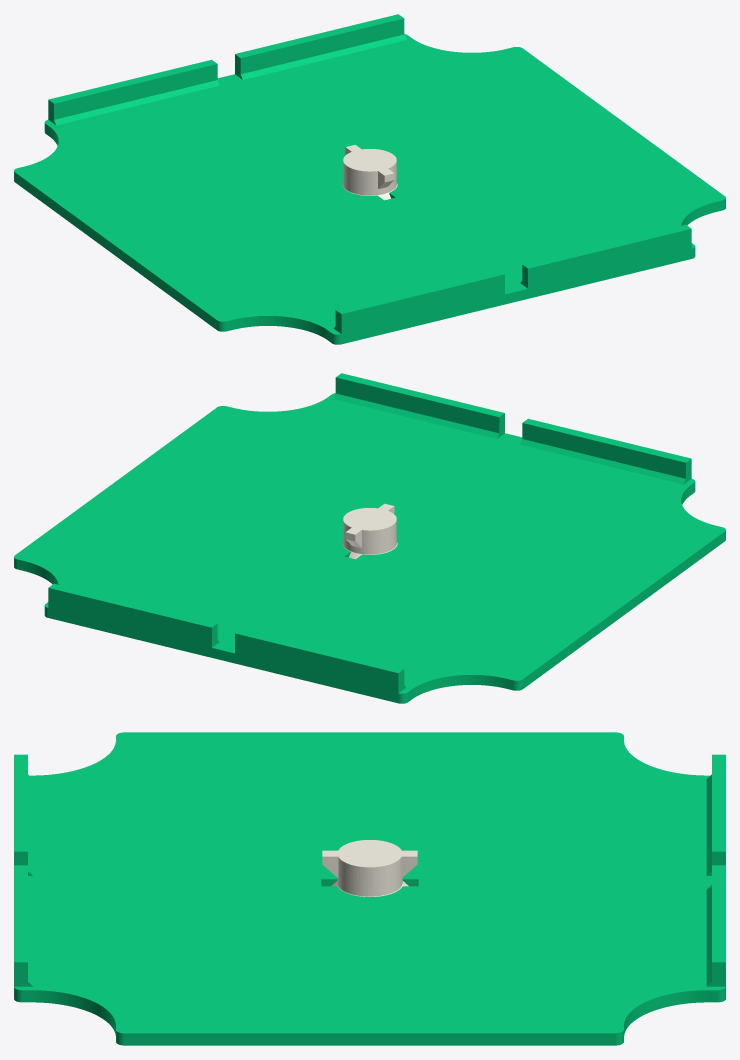
The model's file is cover.glb.
The picture shows the model from 3 angles, top to bottom: view 1: azimuth 30°, elevation 25°; view 2: azimuth 150°, elevation 25°; view 3: azimuth 270°, elevation 25°; orthographic projection. The views are drawn at different scales.
Visible parts, largest first — view 1: contratapa, tornillo_contratapa; view 2: contratapa, tornillo_contratapa; view 3: contratapa, tornillo_contratapa.
Boxes of the visible parts, <box> form: contratapa: <box>14,14,725,344</box>; tornillo_contratapa: <box>342,144,397,200</box>; contratapa: <box>14,373,725,703</box>; tornillo_contratapa: <box>342,503,397,559</box>; contratapa: <box>14,732,725,1045</box>; tornillo_contratapa: <box>322,840,417,896</box>.
Size of the model in its own units: 0.1322 by 0.0105 by 0.1322.
